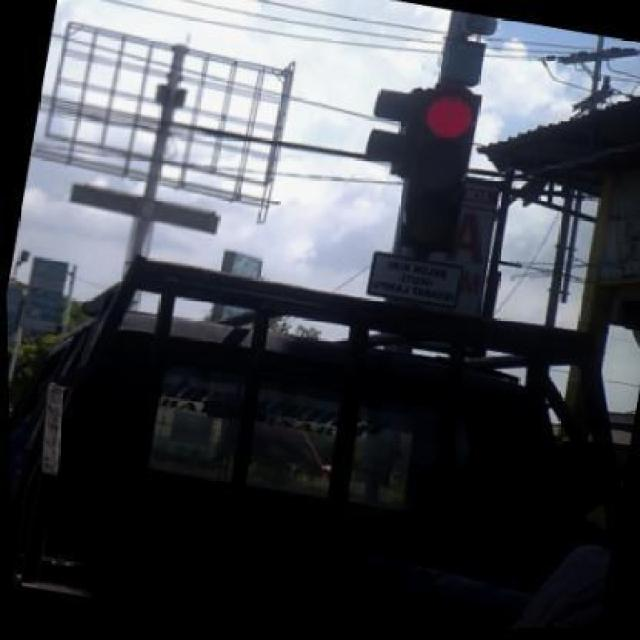Traffic Light -Red-: (388, 80, 490, 251)
